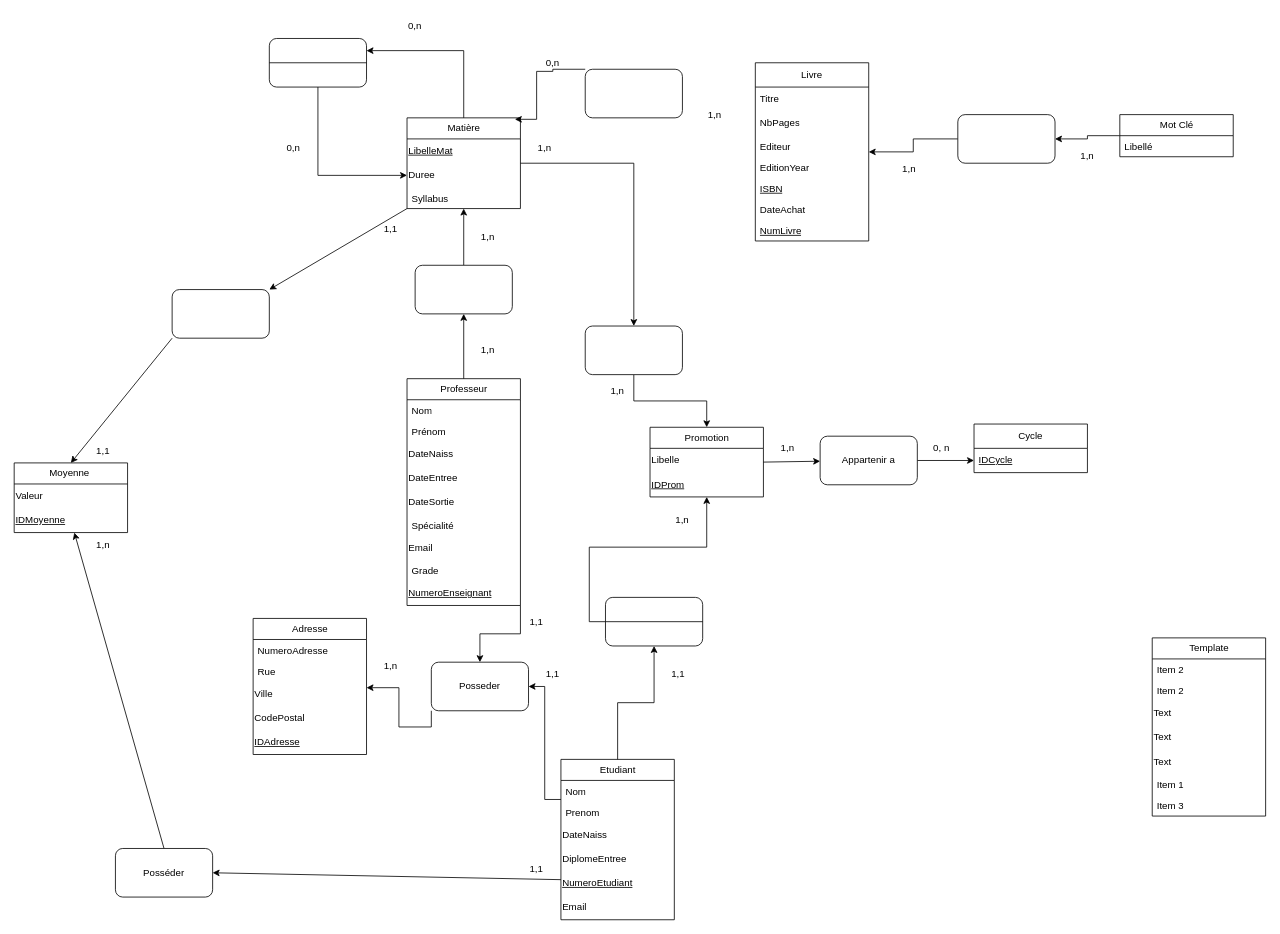
The diagram is 1280 pixels wide and 934 high, and some of its shapes have lost their labels. Each missing label, with the centre of its shape:
A comme prerequis Matiere: the point at 318,62
Appartient a Statut: the point at 654,621
Définir Anee: the point at 220,313
Enseigner: the point at 463,289
Etre Associé: the point at 1006,138
Etre enseigné: the point at 633,350
Traiter de: the point at 633,93
